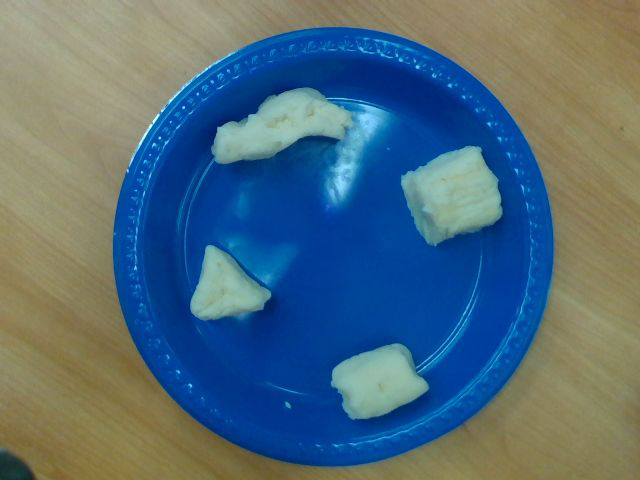mashed_potato: (401, 145, 503, 245), (214, 88, 346, 164), (333, 344, 428, 419), (190, 246, 271, 320)
